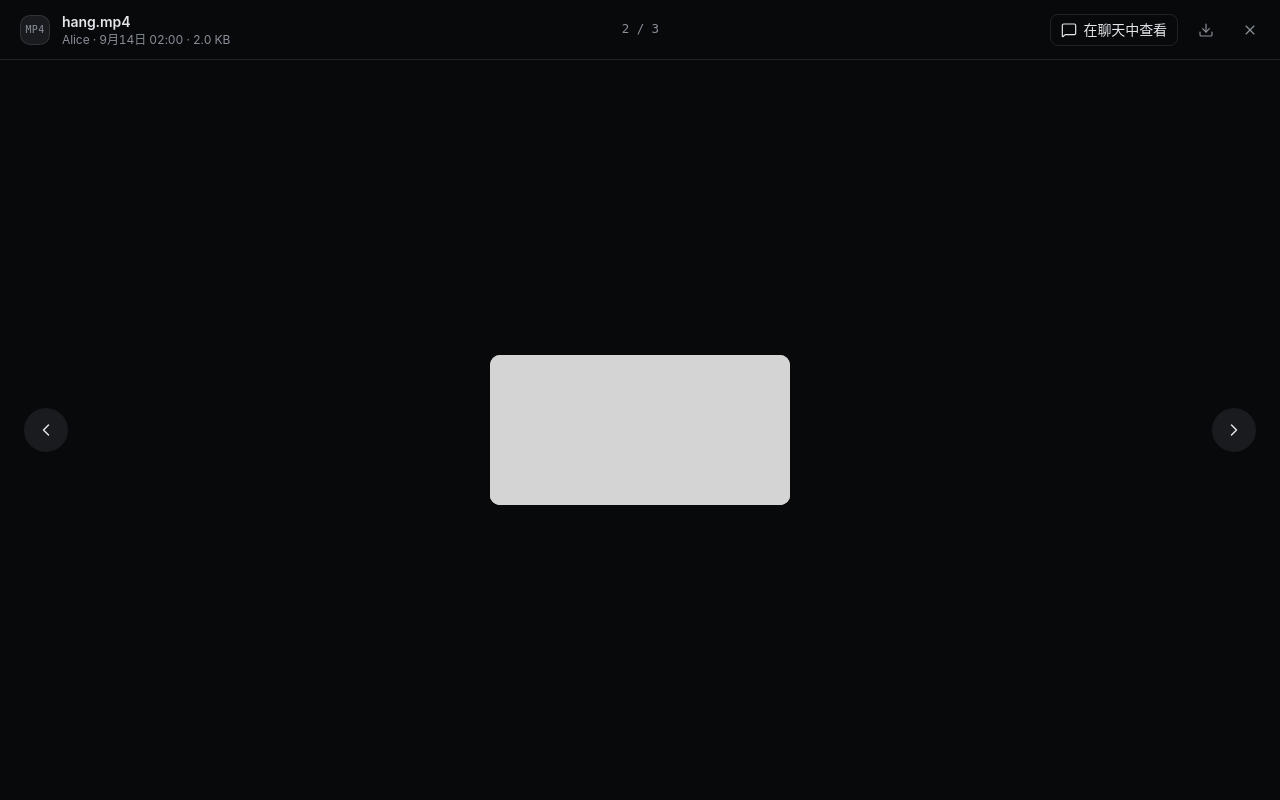
Test case: the attachment viewer › walks the room from the oldest on the left to the newest on the right, as the chat reads
The image size is (1280, 800).
Check: the text "2 / 3" is shown, box x1=622 y1=20 x2=659 y2=39
Press Arrowright
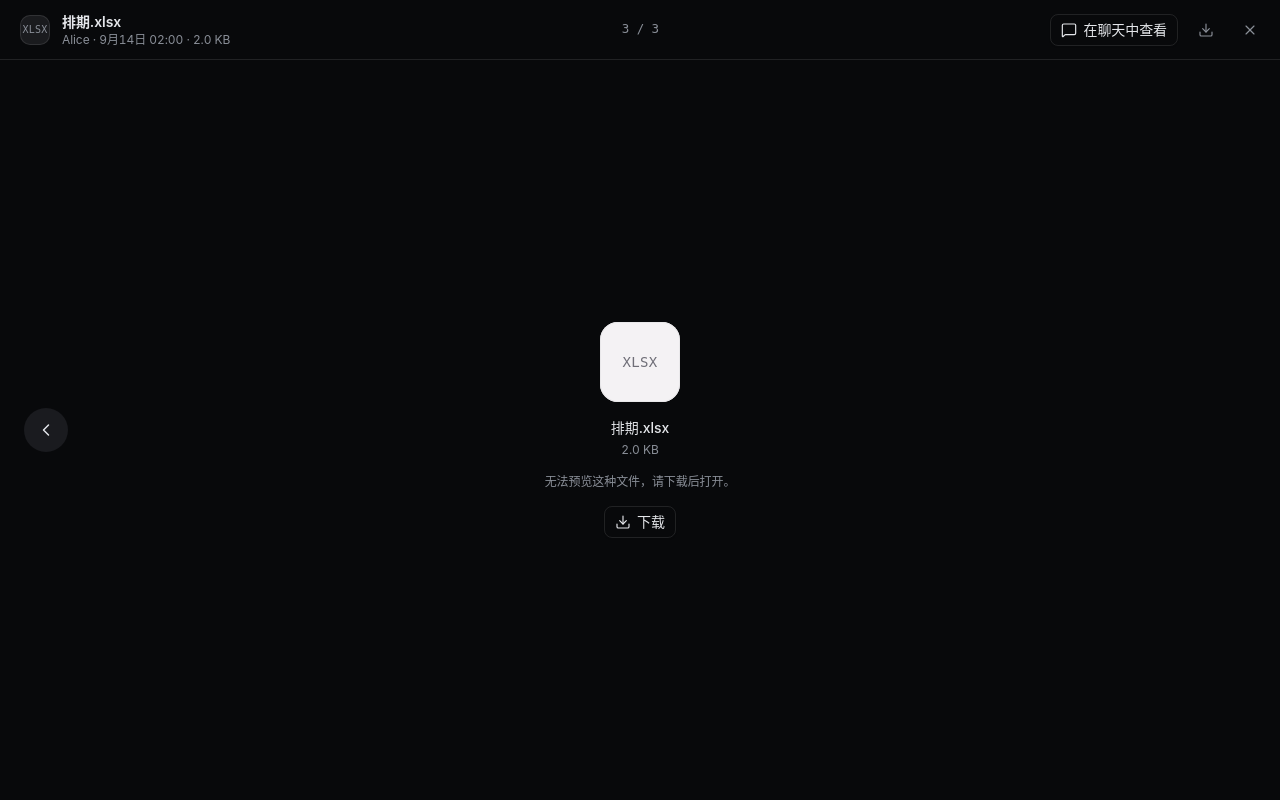
Check: the text "3 / 3" is shown, box x1=622 y1=20 x2=659 y2=39
Check: the button "下一个附件" is gone
Click the button named "上一个附件" at x=46, y=430, box x1=24 y1=408 x2=68 y2=452
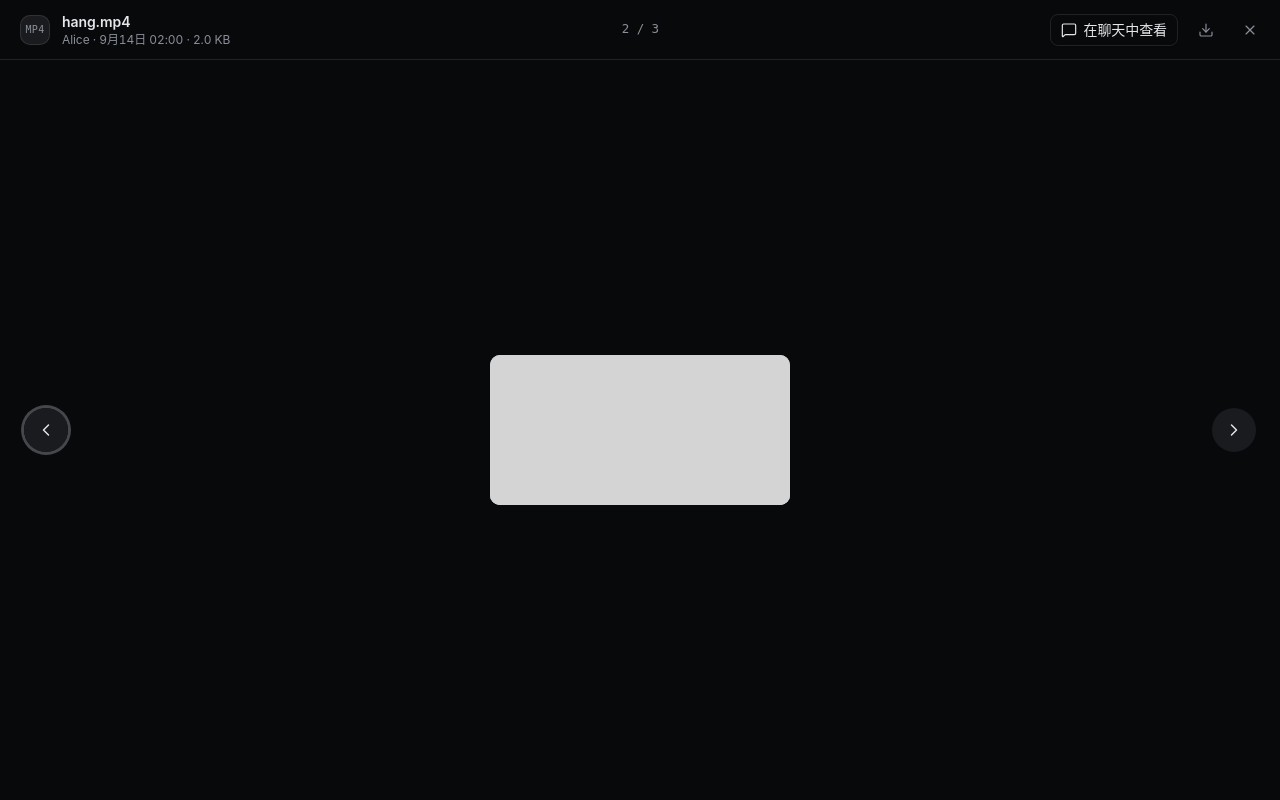
Check: the text "2 / 3" is shown, box x1=622 y1=20 x2=659 y2=39
Press Arrowleft
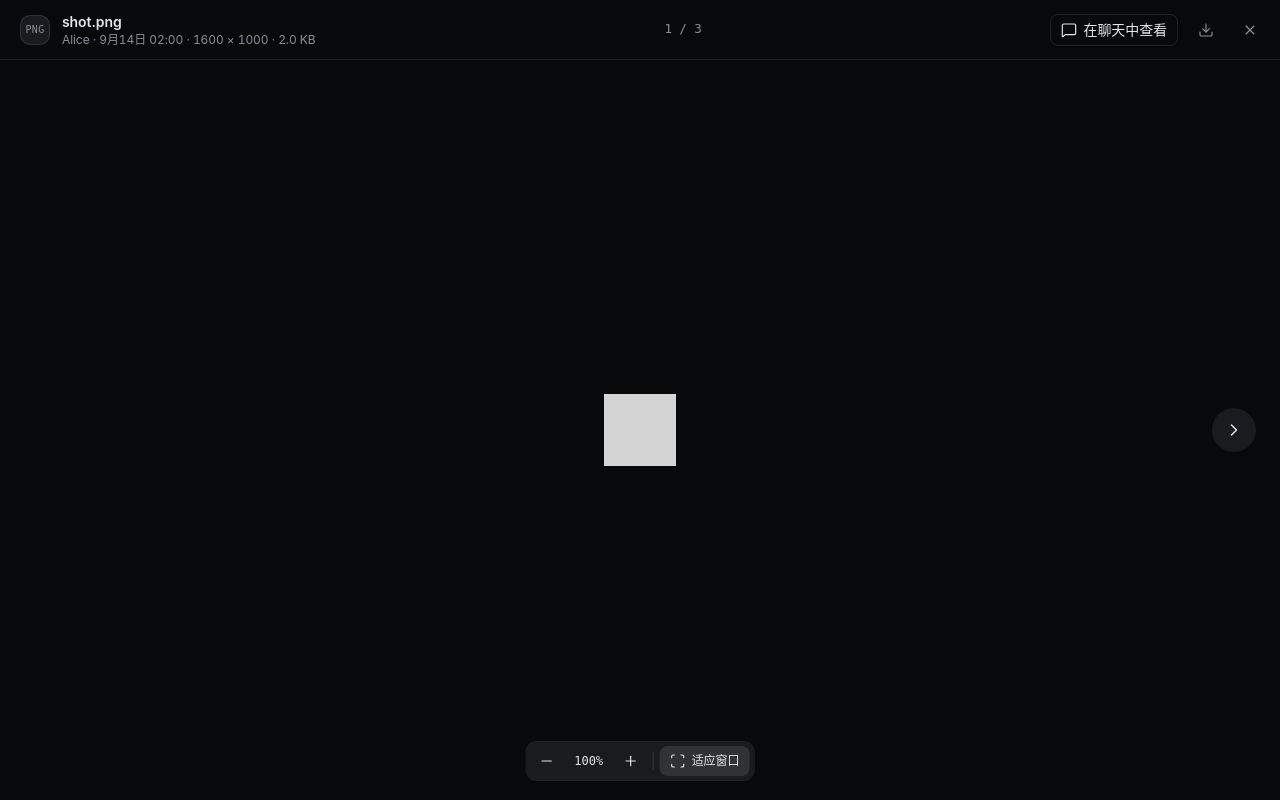
Check: the text "1 / 3" is shown, box x1=664 y1=20 x2=702 y2=39
Check: the button "上一个附件" is gone
